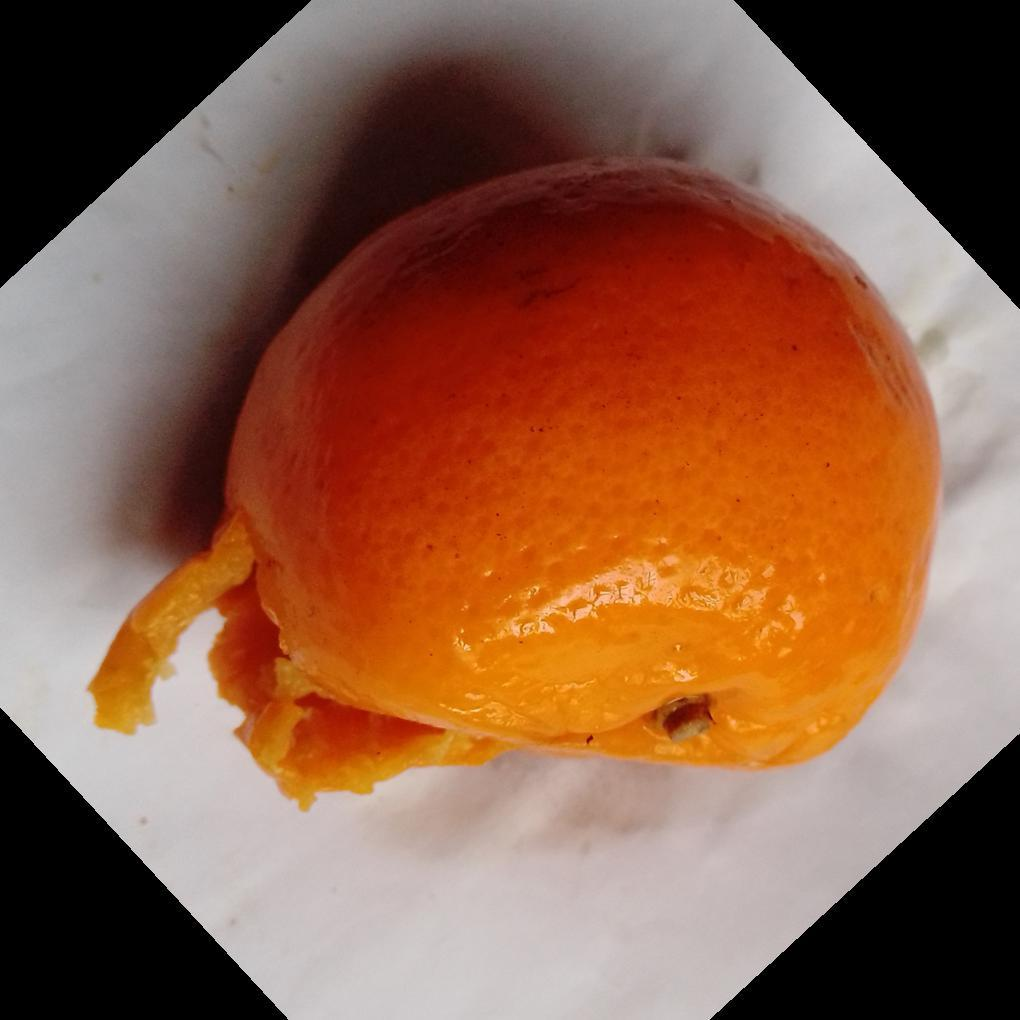FreshOrange: (89, 157, 944, 808)
